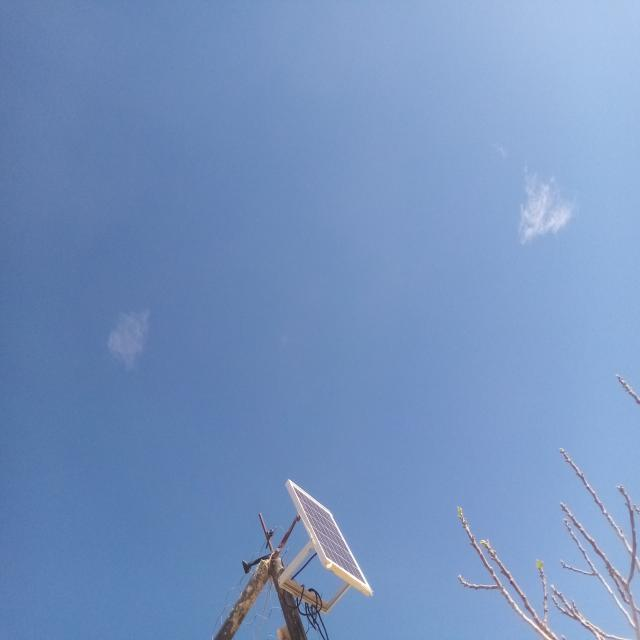no faulty: (289, 479, 373, 591)
